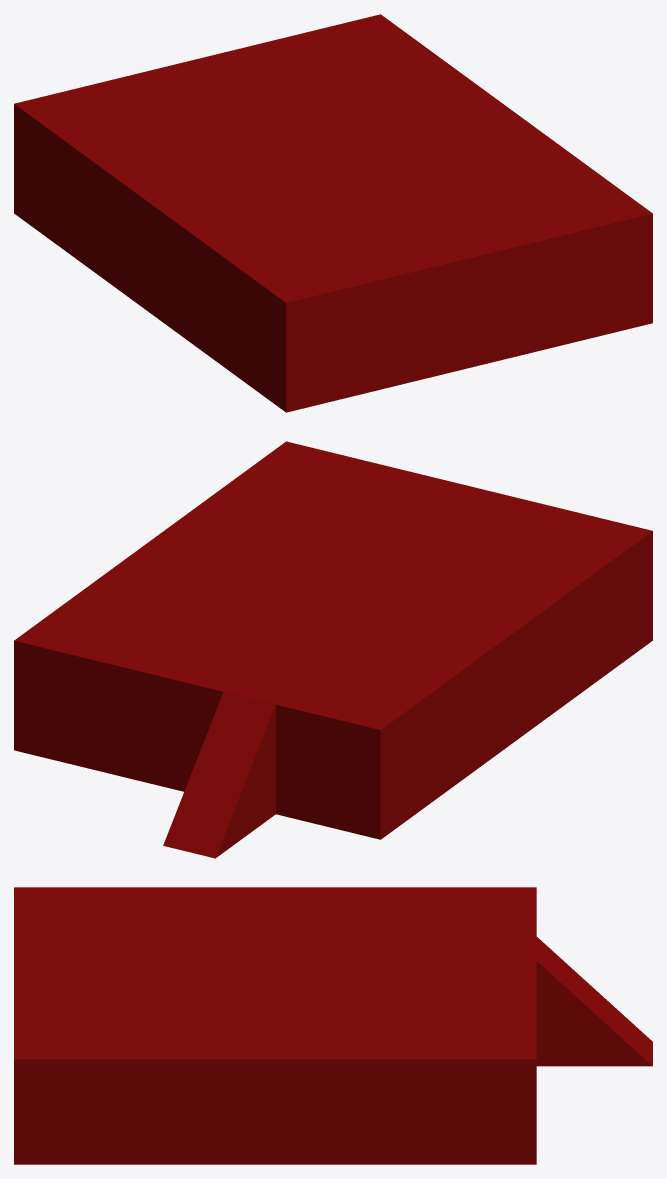
The model's file is ExporterObject.fbx.
3 views of the same model, one above another, from view 1: azimuth 30°, elevation 25°; view 2: azimuth 150°, elevation 25°; view 3: azimuth 270°, elevation 25° (orthographic). The views are drawn at different scales.
Parts seen in each view (by area): view 1: VoxelMesh(Clone); view 2: VoxelMesh(Clone), ramp 2(Clone); view 3: VoxelMesh(Clone), ramp 2(Clone).
Boxes of the visible parts, x1,y1,x2,y2 form: VoxelMesh(Clone): (14,14,652,412); VoxelMesh(Clone): (14,441,652,839); ramp 2(Clone): (163,692,275,858); VoxelMesh(Clone): (14,887,536,1164); ramp 2(Clone): (536,937,652,1066).
Size of the model in its own units: 7 by 2 by 11.
